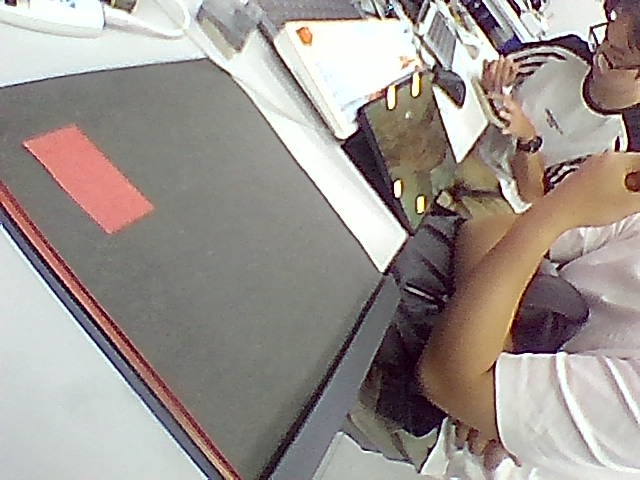card: (23, 125, 153, 233)
